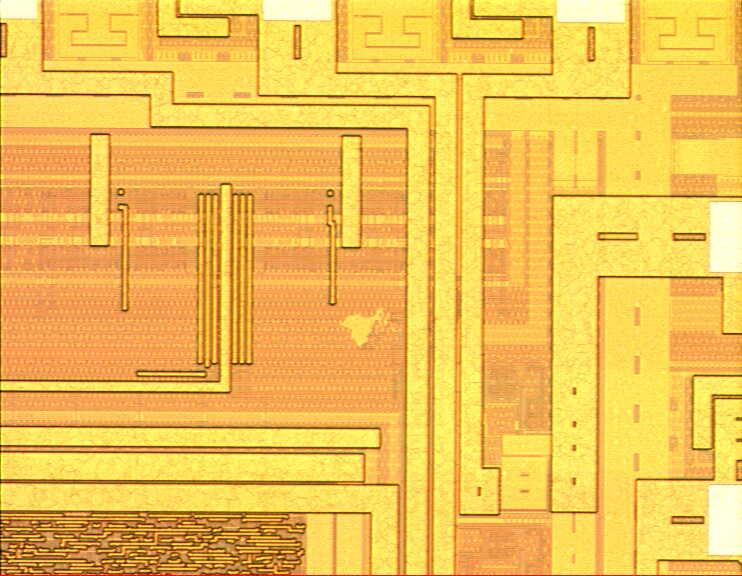BLOCK ETCH: (341, 308, 392, 348)
